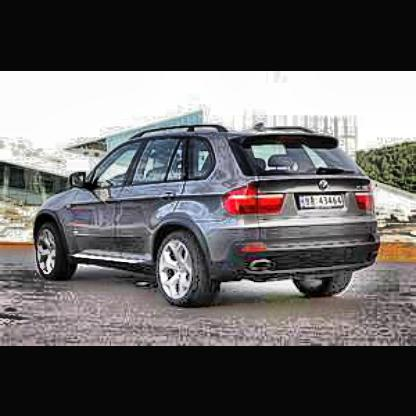BMW X5 SUV 2007: (35, 122, 384, 305)
